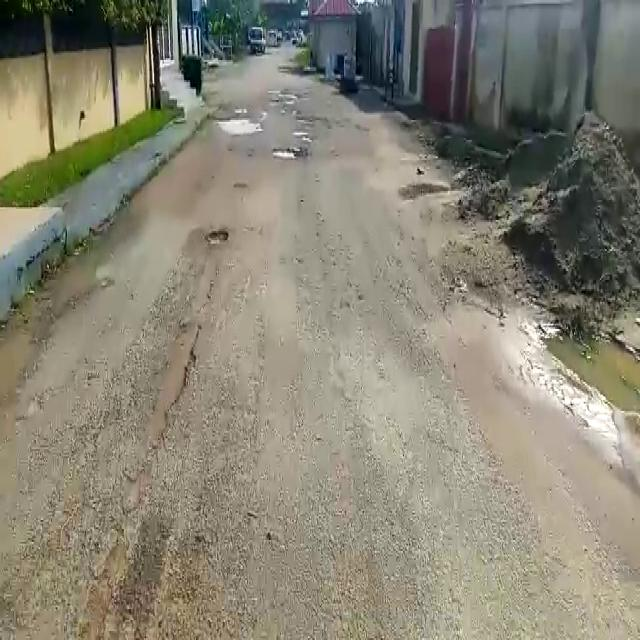Pothole: (209, 117, 264, 136), (274, 144, 304, 159), (208, 229, 230, 245)
